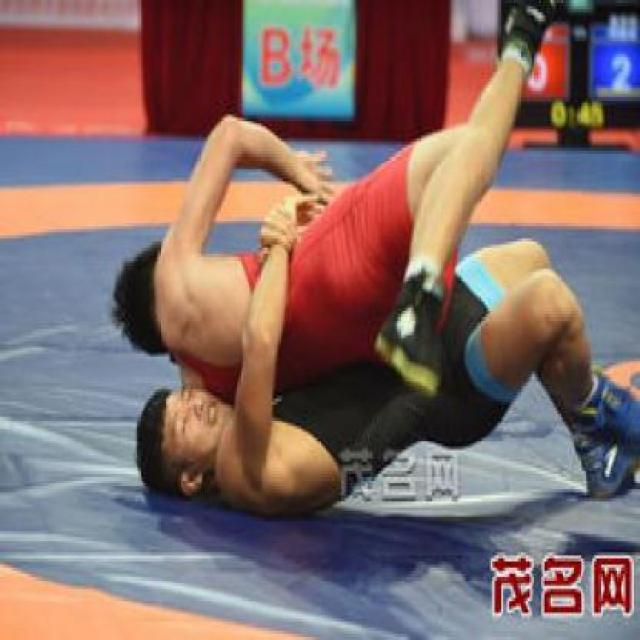fall: (120, 4, 628, 504)
